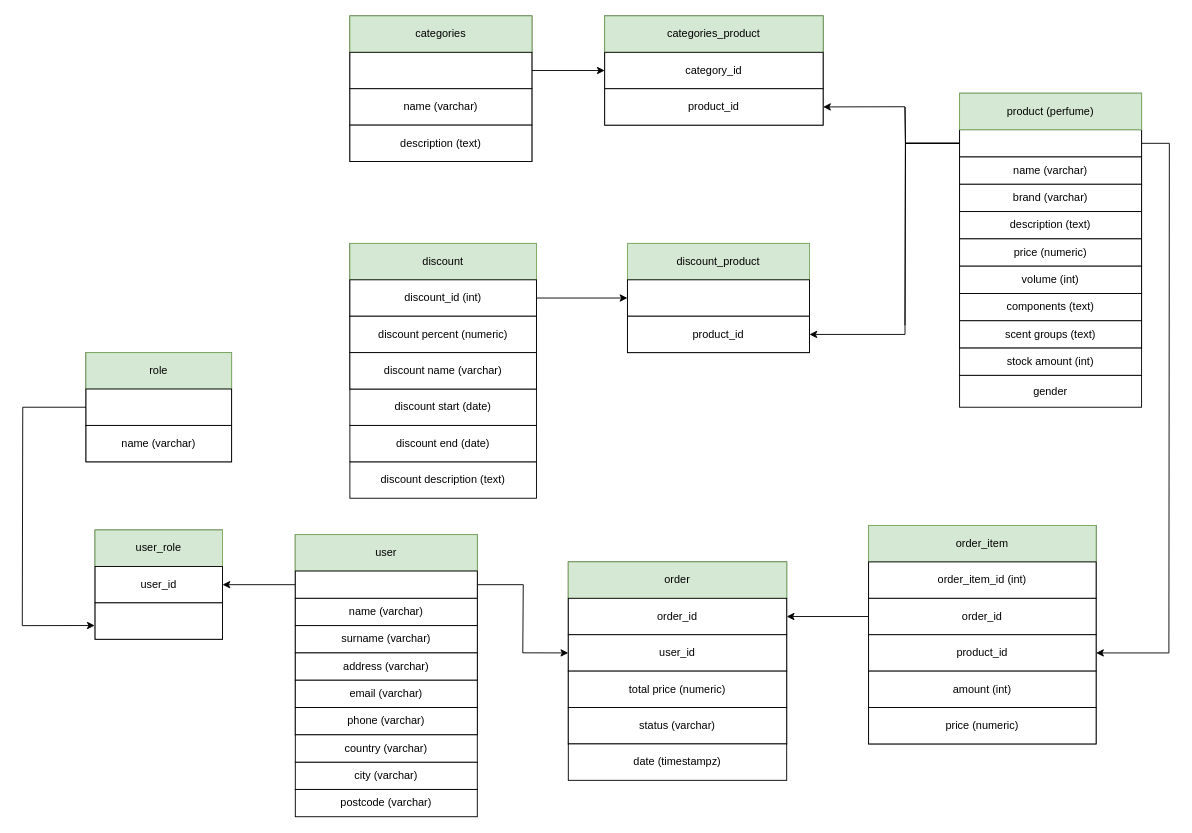
The diagram is 1192 pixels wide and 833 high, and some of its shapes have lost their labels. Here are the shapes that lost their labels. From the top down, the centre of each, then its label:
At (440,70): "category_id (int)".
At (1050,143): "product_id (int)".
At (718,297): "discount_id".
At (158,406): "role_id (int)".
At (385,584): "user_id (int)".
At (158,620): "role_id".
